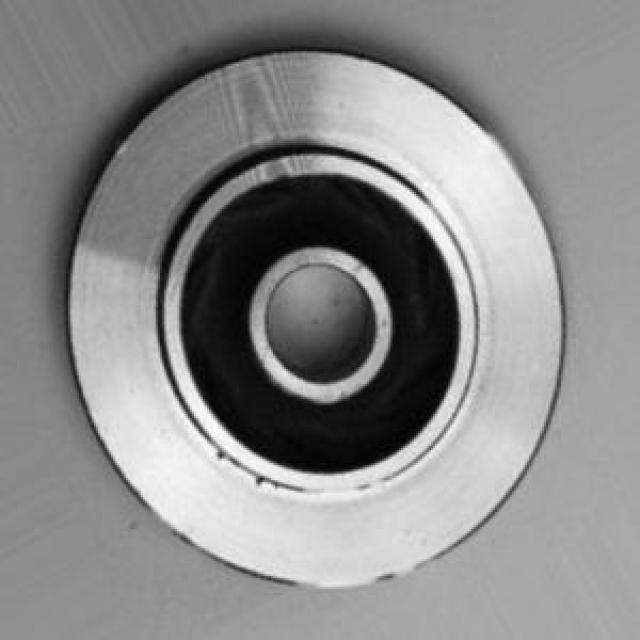Defect: (207, 434, 234, 479)
